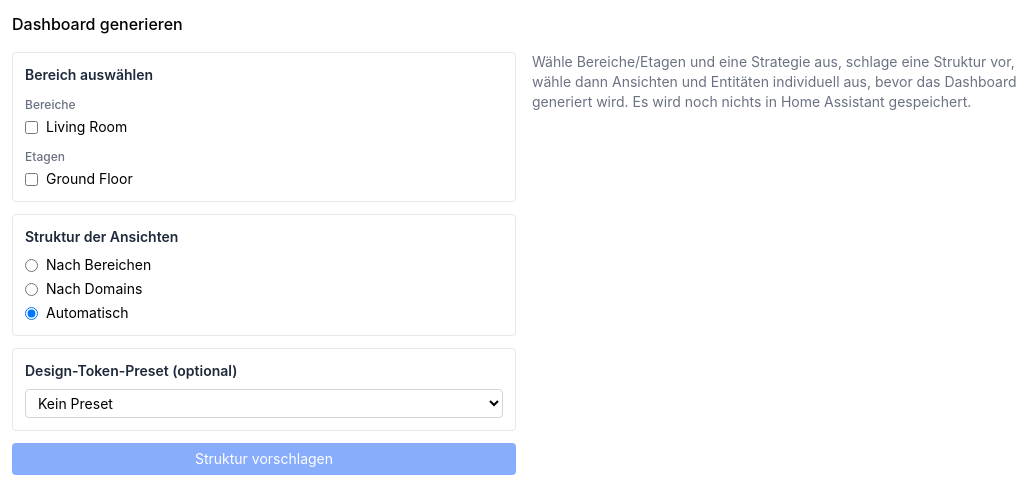
DashboardPage › 'Zurück' returns to the scope step and clears the proposal
Click the checkbox labelled "Living Room" at (32, 127), box [25, 120, 38, 134]
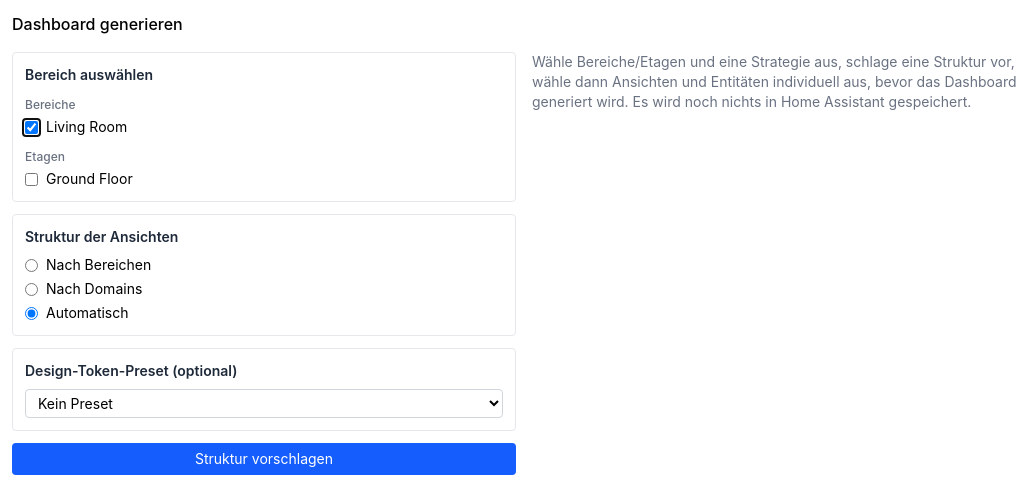
Click the button "Struktur vorschlagen" at (264, 459), box [12, 443, 516, 475]
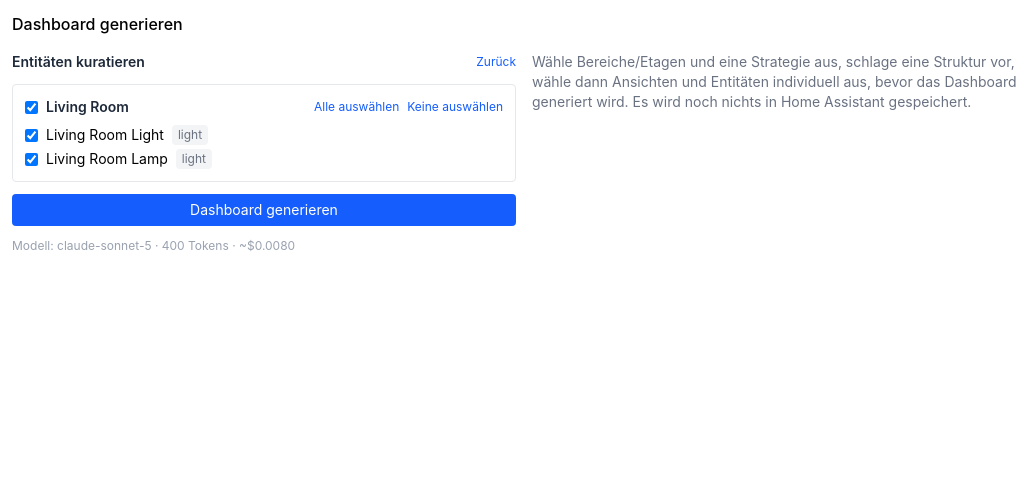
Expected: the heading "Entitäten kuratieren" is shown, [12, 52, 145, 72]
Click the button "Zurück" at (496, 62), box [476, 54, 516, 70]
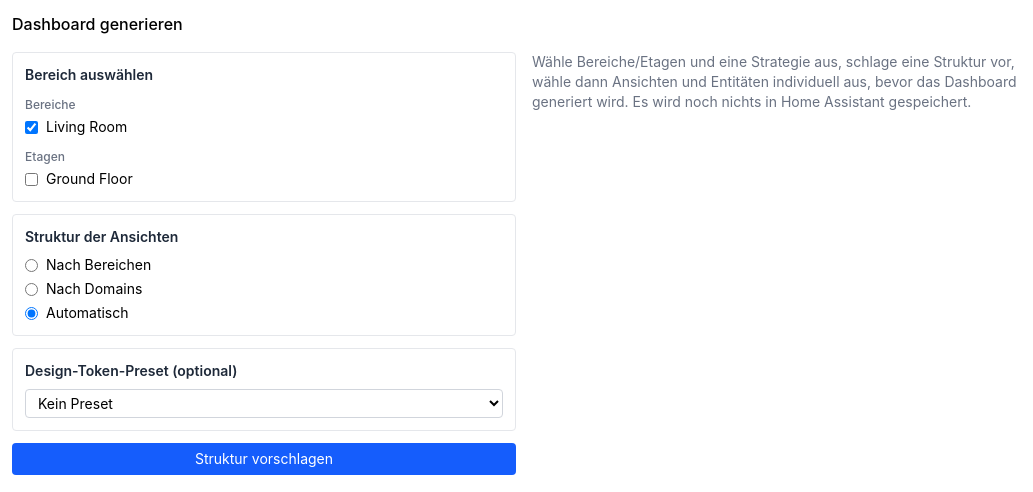
Expected: the button "Struktur vorschlagen" is shown, [12, 443, 516, 475]
Expected: the heading "Entitäten kuratieren" is gone
